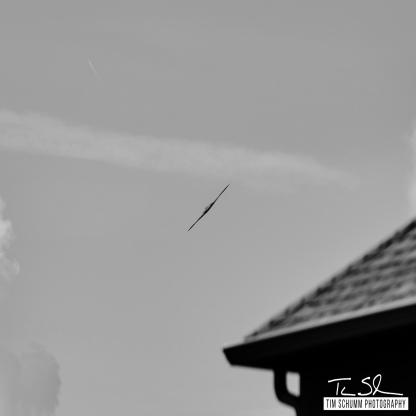B2: (188, 183, 231, 233)
